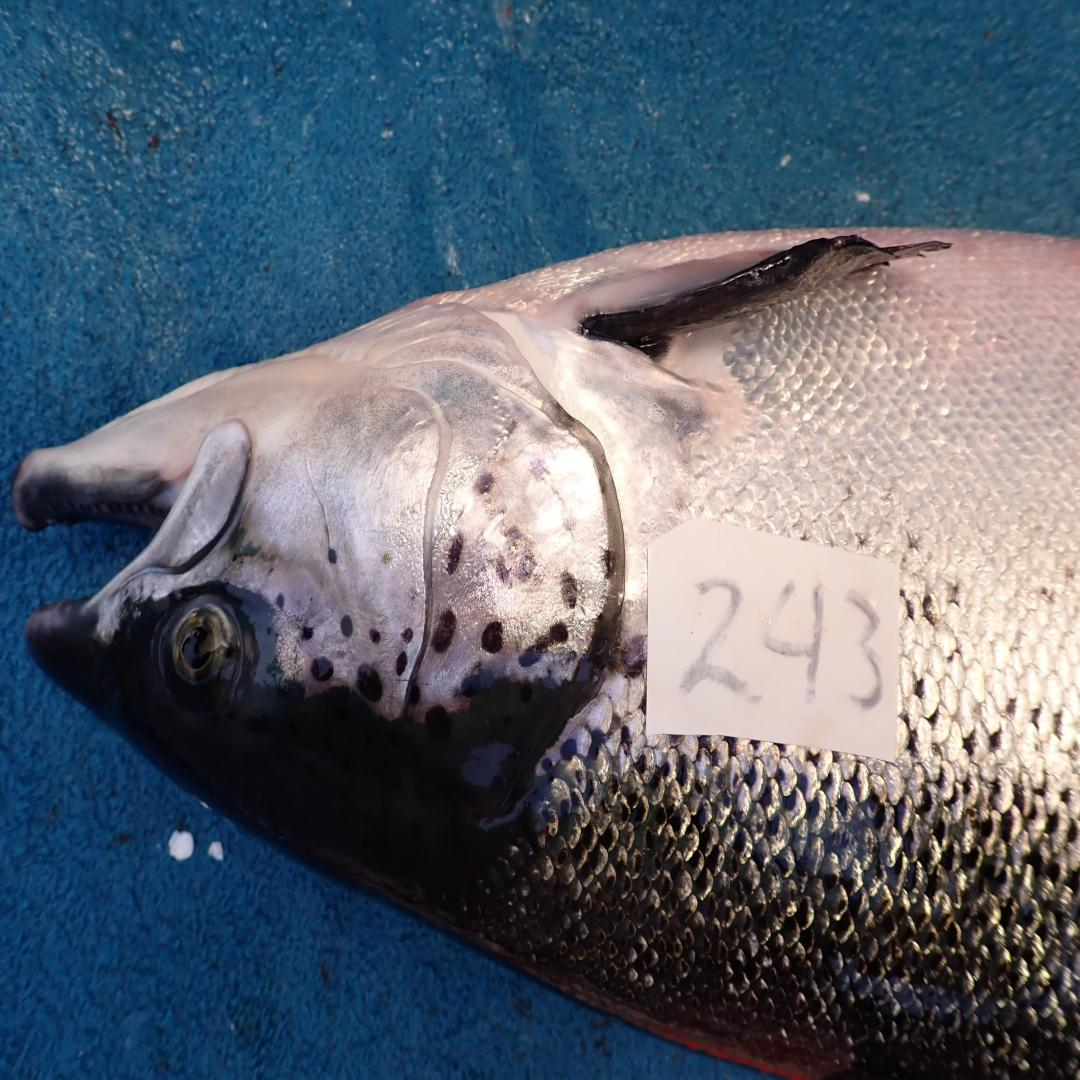spot: (493, 525, 535, 584), (519, 622, 570, 667), (432, 610, 456, 652), (356, 667, 382, 703), (426, 706, 451, 737), (447, 534, 464, 574), (481, 622, 502, 652), (310, 655, 333, 681), (561, 574, 578, 608), (529, 453, 548, 481), (461, 674, 480, 698), (477, 472, 494, 495), (561, 512, 578, 532), (408, 677, 420, 705), (605, 550, 615, 574), (397, 652, 407, 675), (369, 627, 382, 644), (342, 616, 352, 638), (327, 546, 338, 565), (382, 548, 394, 565), (274, 593, 285, 610), (302, 627, 314, 641), (403, 627, 413, 641)
